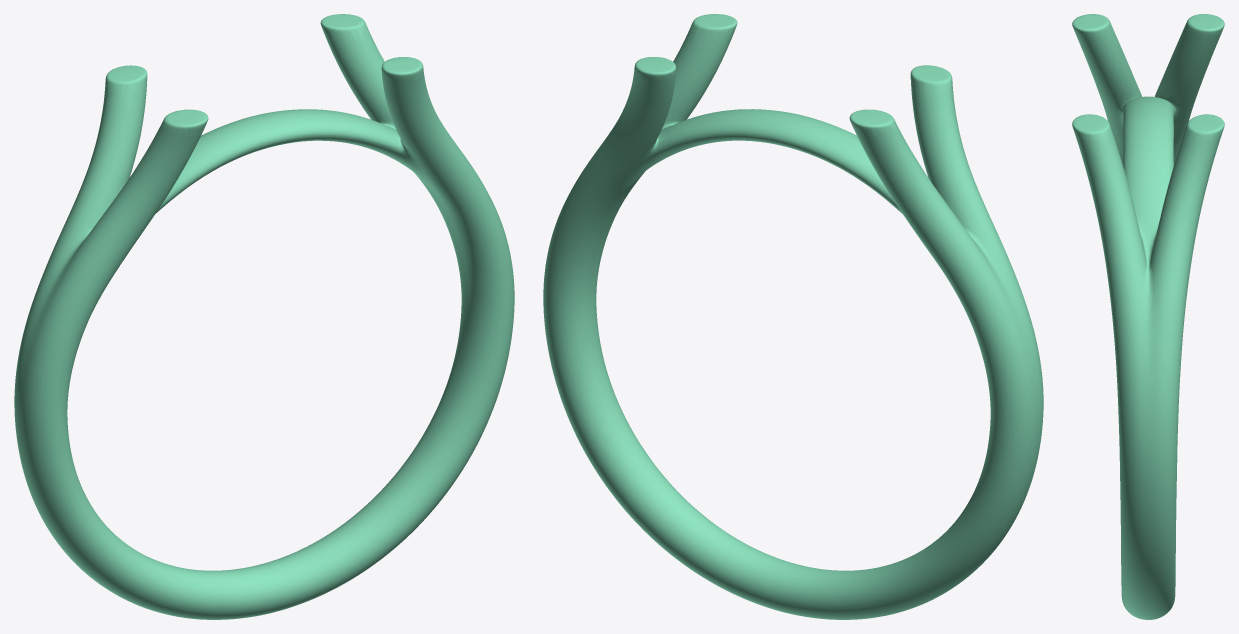
3 views of the same model, side by side, from view 1: azimuth 30°, elevation 25°; view 2: azimuth 150°, elevation 25°; view 3: azimuth 270°, elevation 25° (orthographic). The views are drawn at different scales.
Visible parts, largest first — view 1: Metal01; view 2: Metal01; view 3: Metal01.
Boxes of the visible parts, bbox=[...] form: Metal01: bbox=[14, 14, 514, 619]; Metal01: bbox=[543, 14, 1043, 619]; Metal01: bbox=[1072, 14, 1224, 619].
Size of the model in its own units: 20.91 by 22.14 by 5.85.
